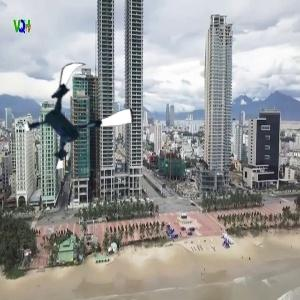drone: (25, 63, 134, 172)
